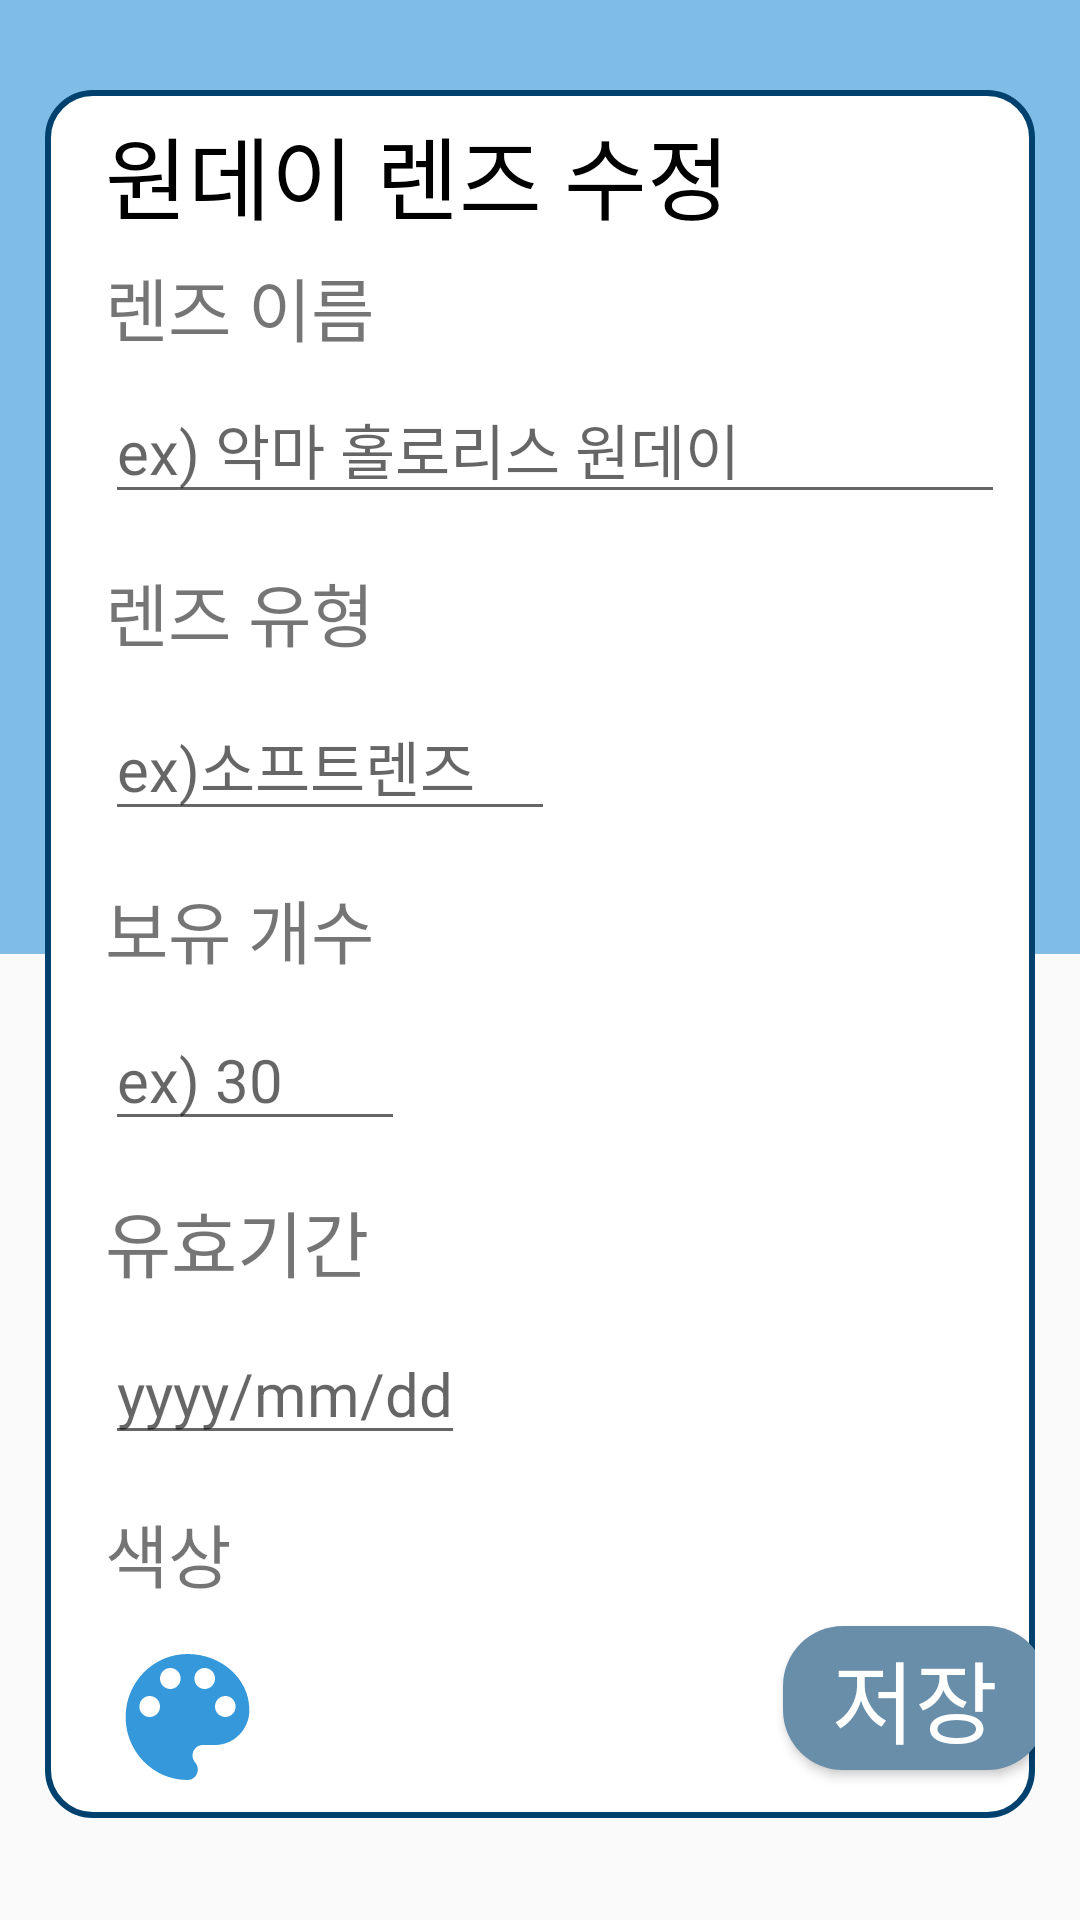

Where icons sit on this 1080w x 1920h app screen, as Rect(x1, y1, x2, y2):
pallete: Rect(125, 1654, 250, 1780)
